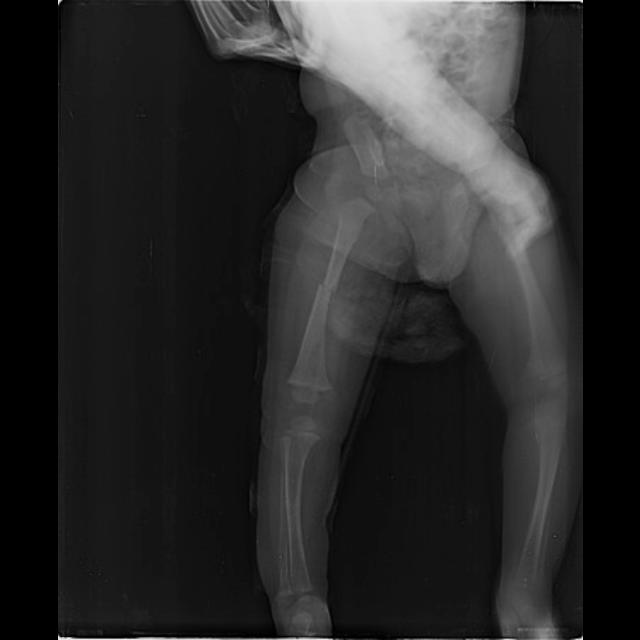Fracture: (315, 275, 339, 301)
